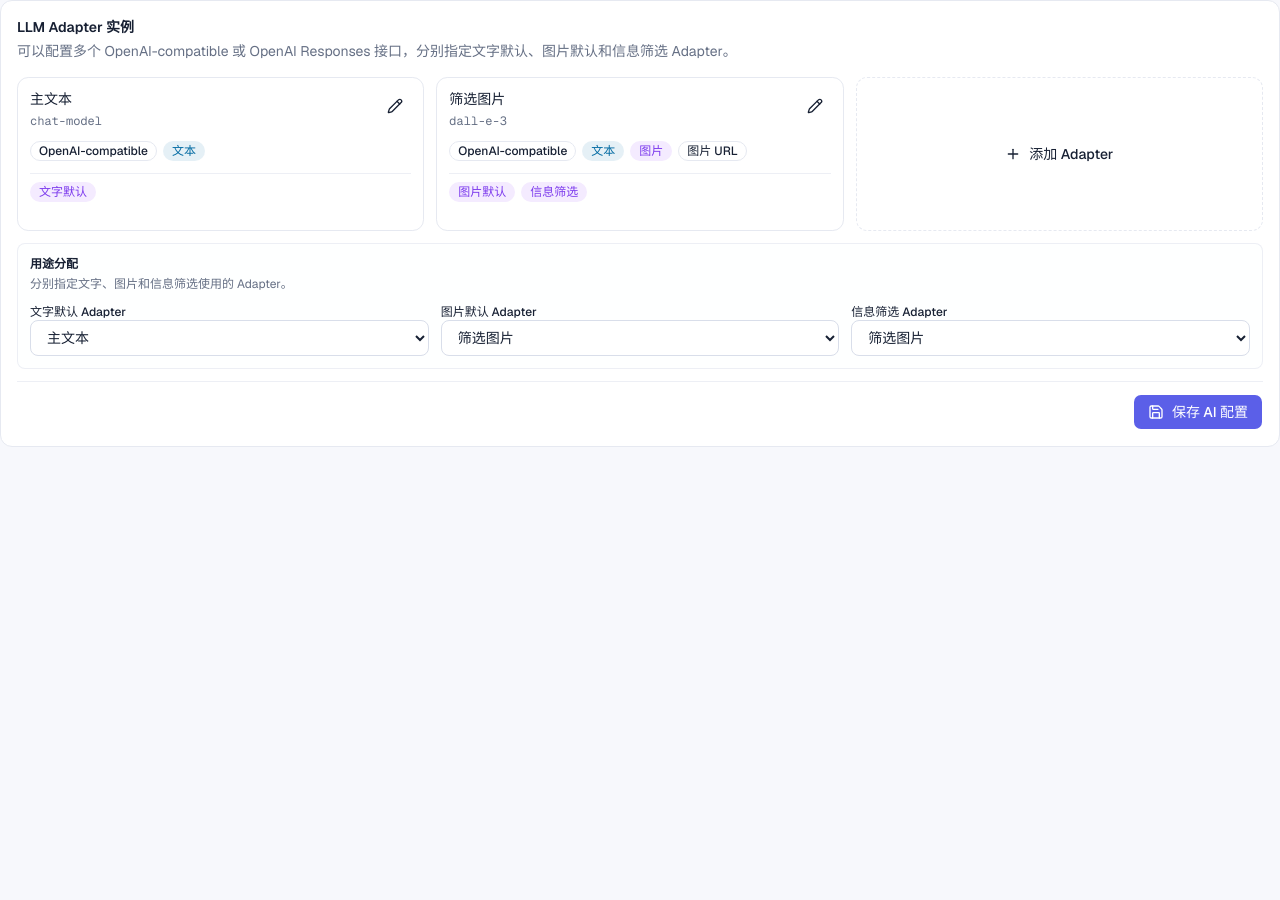
it: AISection › discards adapter edits when the editor dialog is cancelled
The image size is (1280, 900).
Click the button named "编辑 Adapter 主文本" at x=395, y=106, box [379,90,411,122]
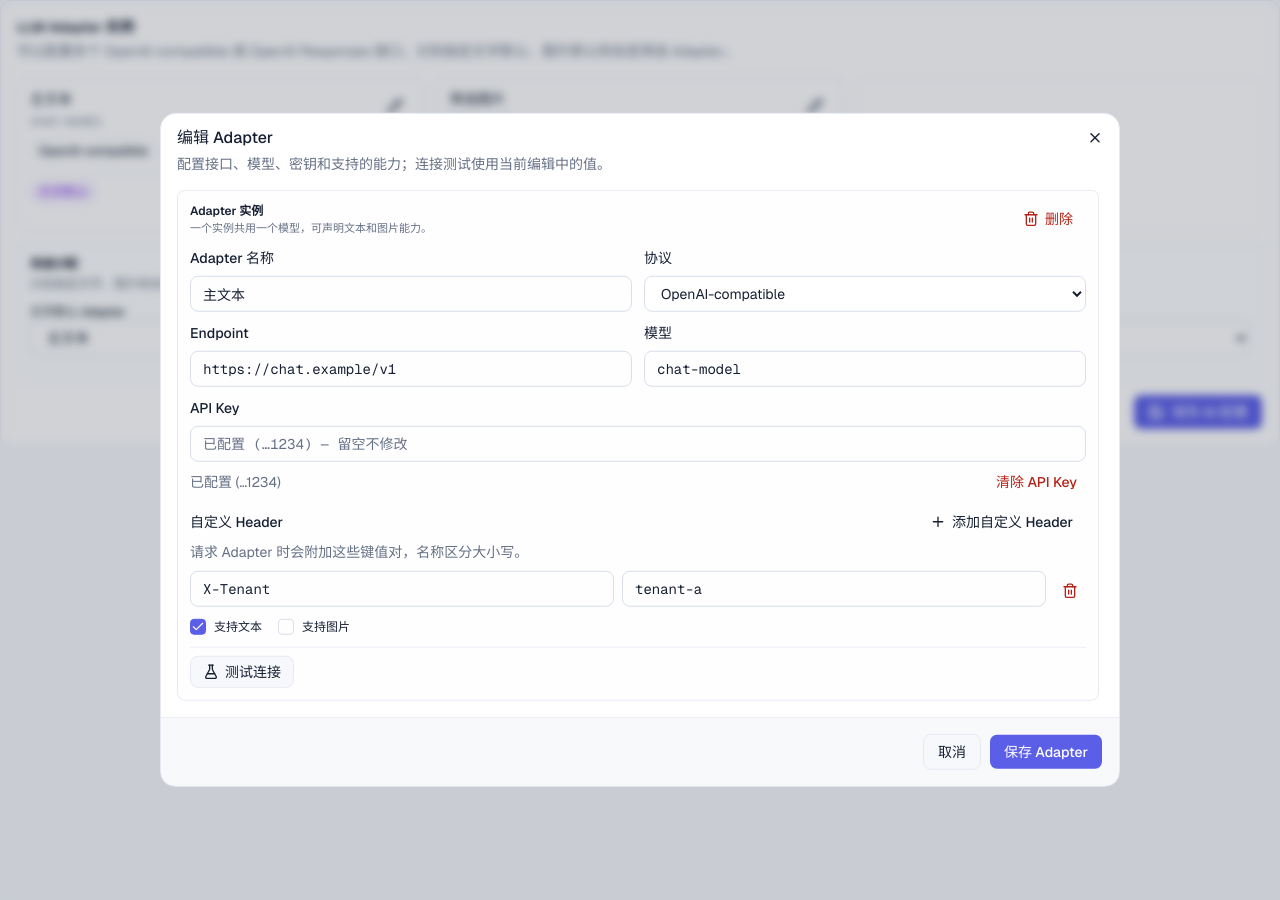
Replace the text in the field labelled "模型" with "draft-model" at x=865, y=369, box [644,351,1086,387]
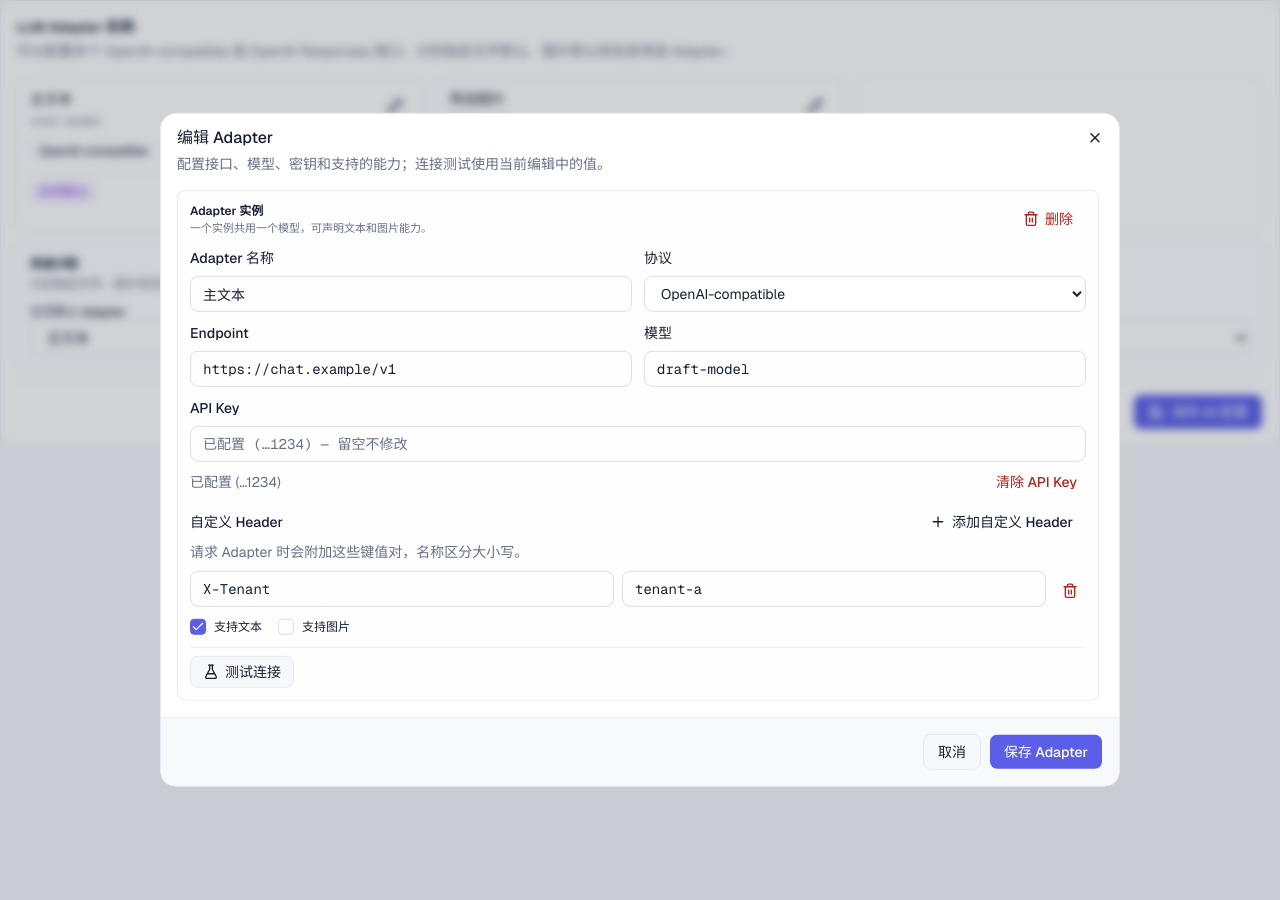
Click the button "取消" at x=952, y=752, box [923,734,981,770]
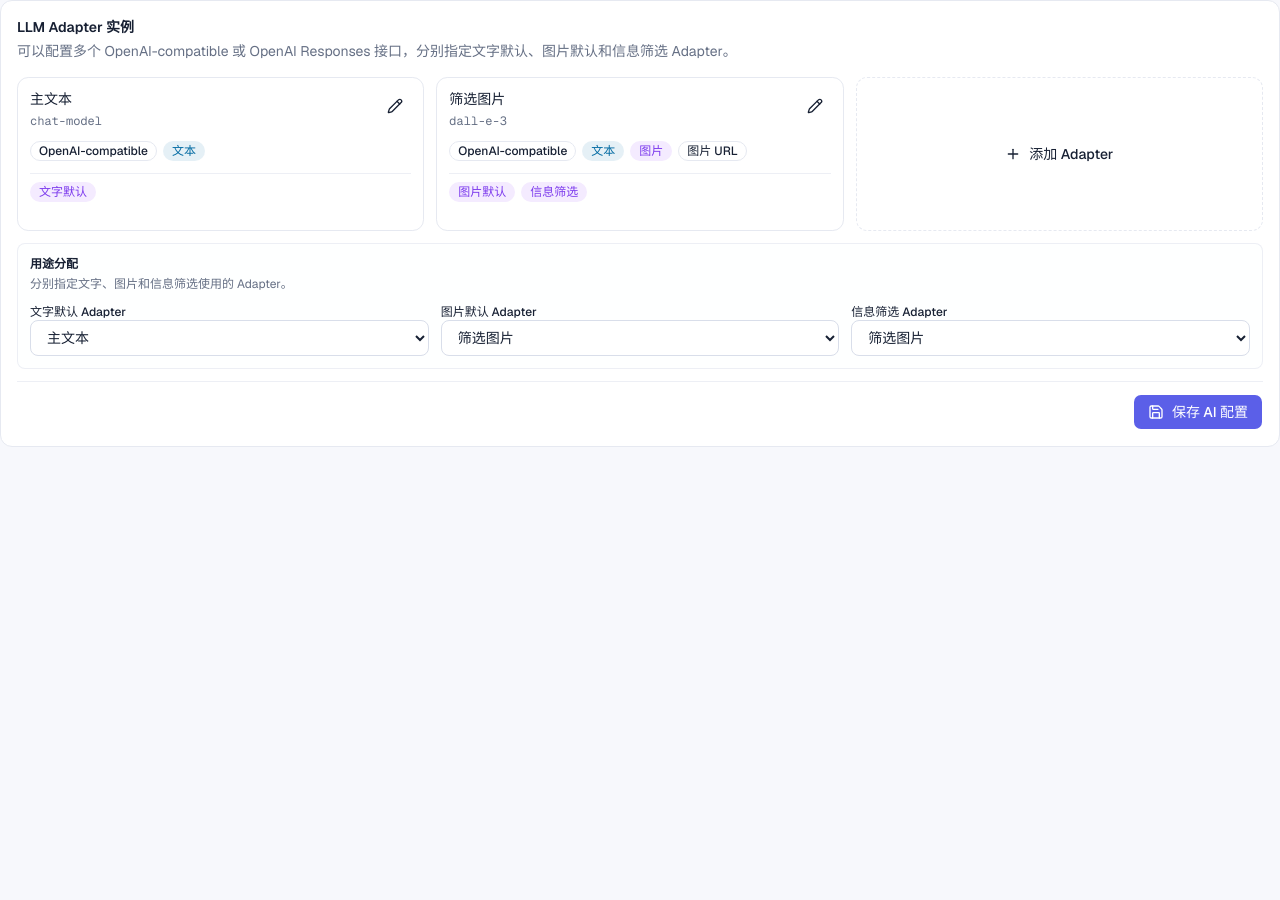
Expected: the element with test id "llm-adapter-card-chat-main" shows "chat-model", [30,113,102,129]
Expected: the dialog is gone
